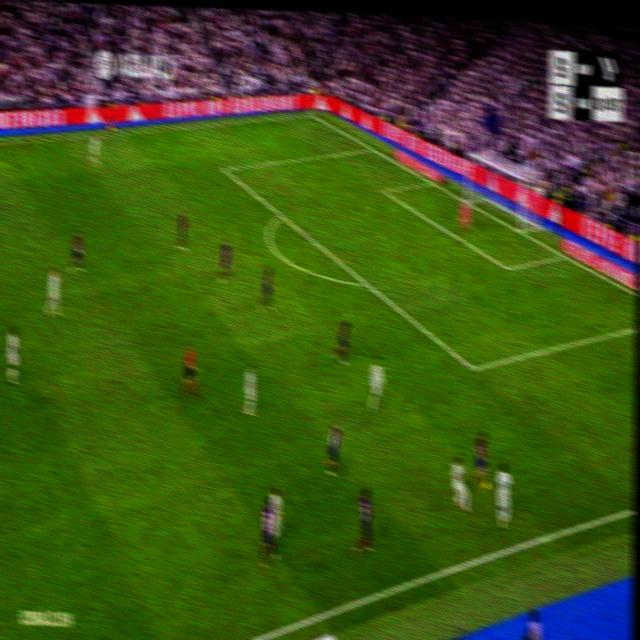bigarea_bottom_inner: (466, 356, 479, 380)
bigarea_top_inner: (221, 162, 229, 175)
bigarea_top_outter: (365, 141, 377, 154)
bottom_arc_area_intersection: (359, 274, 373, 293)
corner: (306, 109, 316, 117)
smallarea_top_inner: (380, 186, 387, 195)
top_arc_area_intersection: (275, 206, 287, 222)
